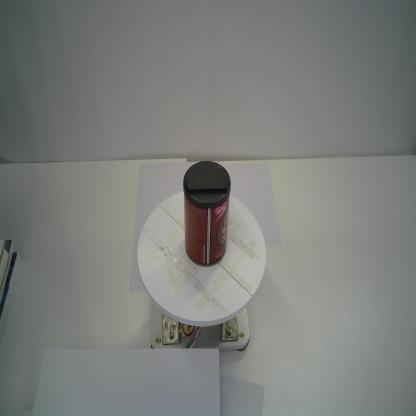Canned Food: (182, 159, 232, 269)
